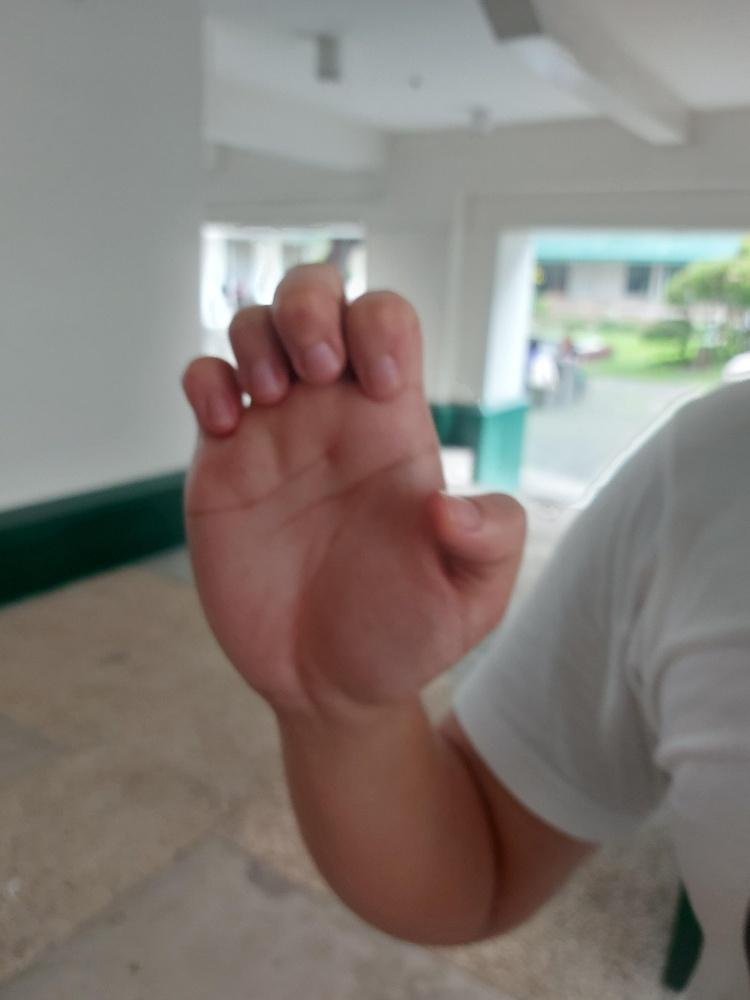e: (175, 258, 528, 713)
